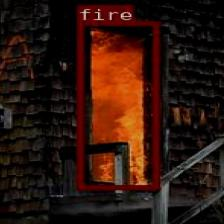fire: (76, 20, 158, 189)
